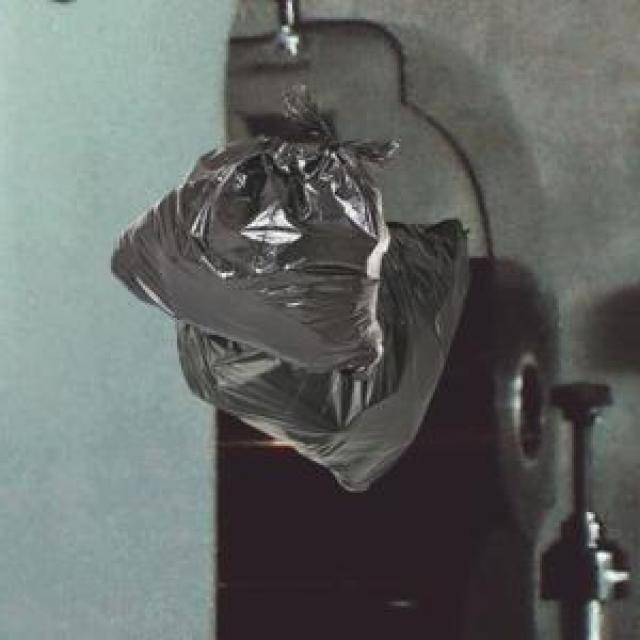Trashbag: (109, 90, 393, 392)
